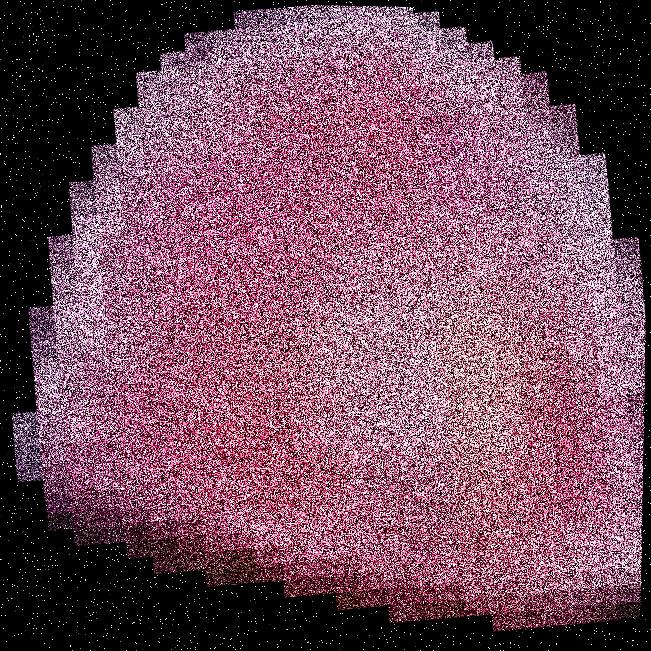Capacete: (4, 0, 650, 650)
